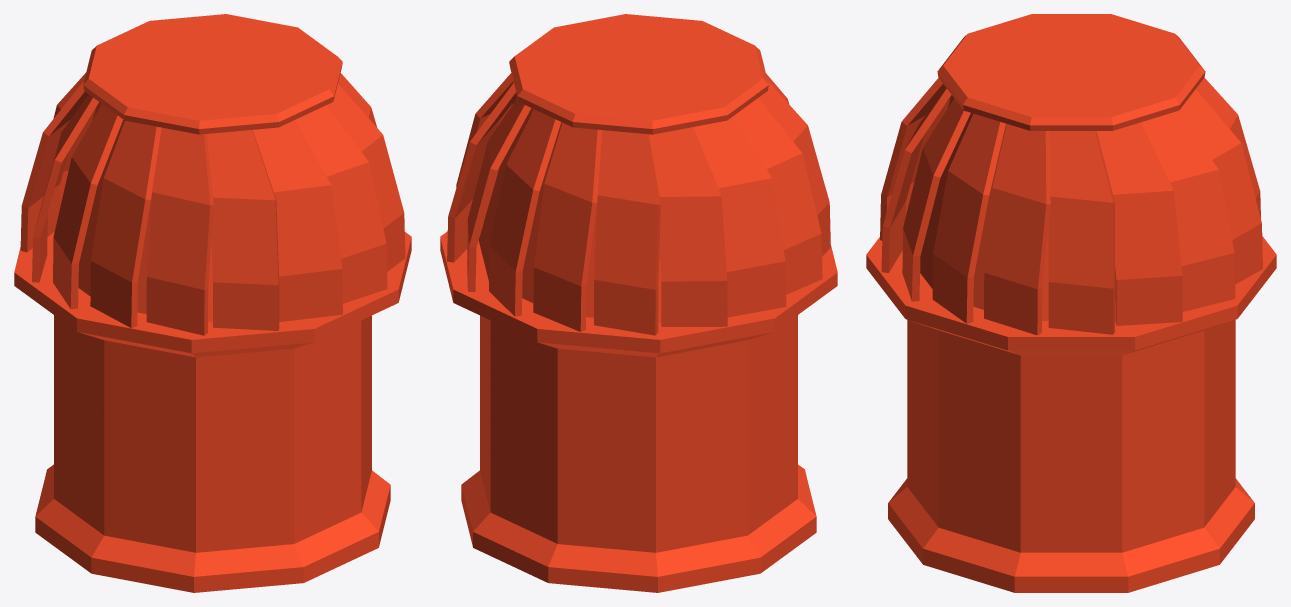
Rendered from SM_Chimney_B_City.fbx.
The picture shows the model from 3 angles, left to right: view 1: azimuth 30°, elevation 25°; view 2: azimuth 150°, elevation 25°; view 3: azimuth 270°, elevation 25°; orthographic projection.
Parts seen in each view (by area): view 1: SM_Chimney_B_City; view 2: SM_Chimney_B_City; view 3: SM_Chimney_B_City.
Part boxes in pixels (left/top/right/bottom): SM_Chimney_B_City: left=14, top=14, right=411, bottom=592; SM_Chimney_B_City: left=440, top=14, right=837, bottom=592; SM_Chimney_B_City: left=866, top=14, right=1276, bottom=592.
Bounding box in the file's own units: 0.3068 × 0.3934 × 0.3226.
